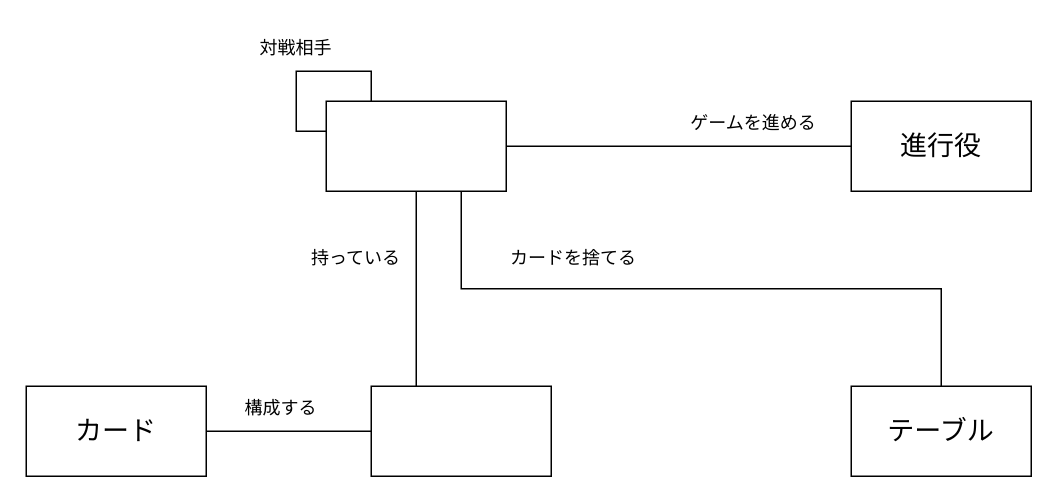
Image size: 1058x503. Some labels were removed from this diagram. Here are the shapes that lost their labels. From the top down, the box of each, then its label:
(325, 100, 506, 191): プレイヤー
(370, 385, 551, 476): 手札
